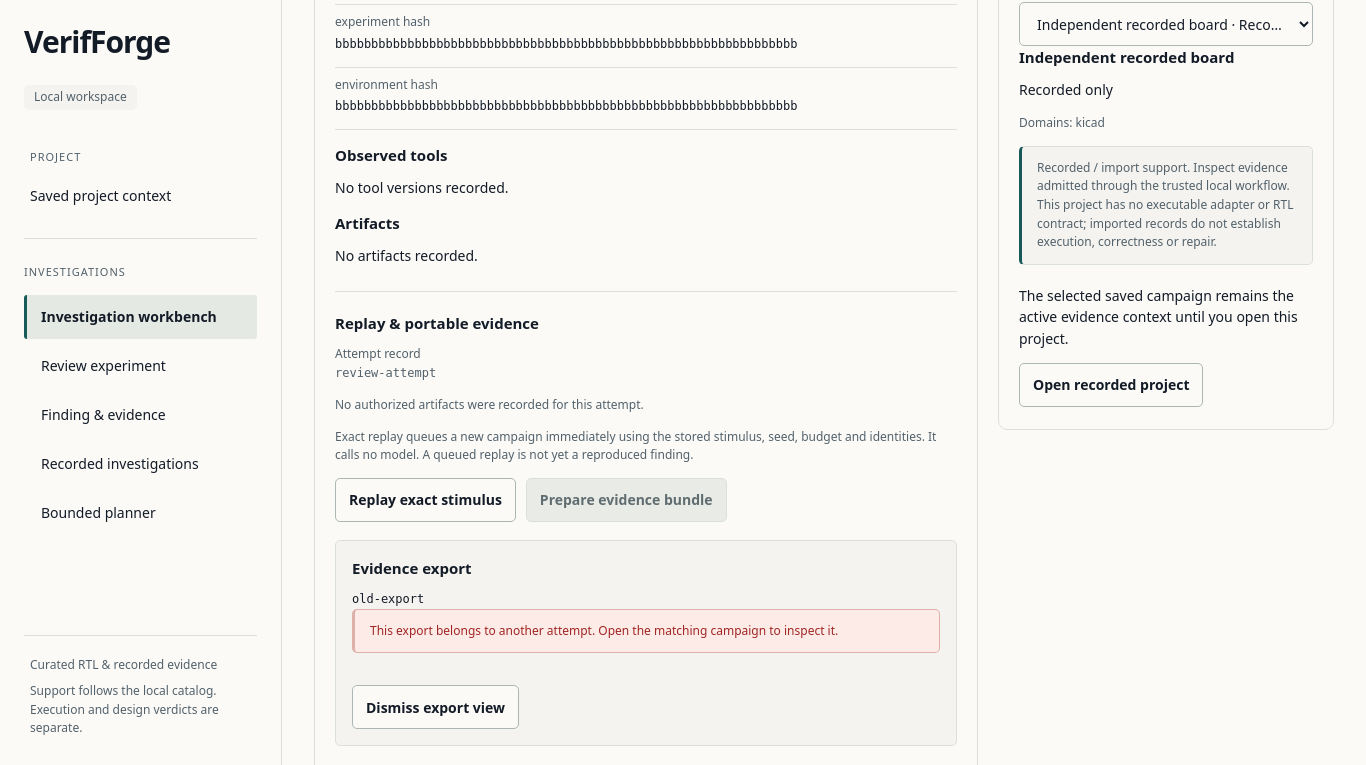
holds saved-campaign project authority even when only a different recorded project is in the catalog
(page scrolled)
Step 1. Click the button "Open recorded project" → (1111, 385), box x1=1019 y1=363 x2=1204 y2=407
(page scrolled)
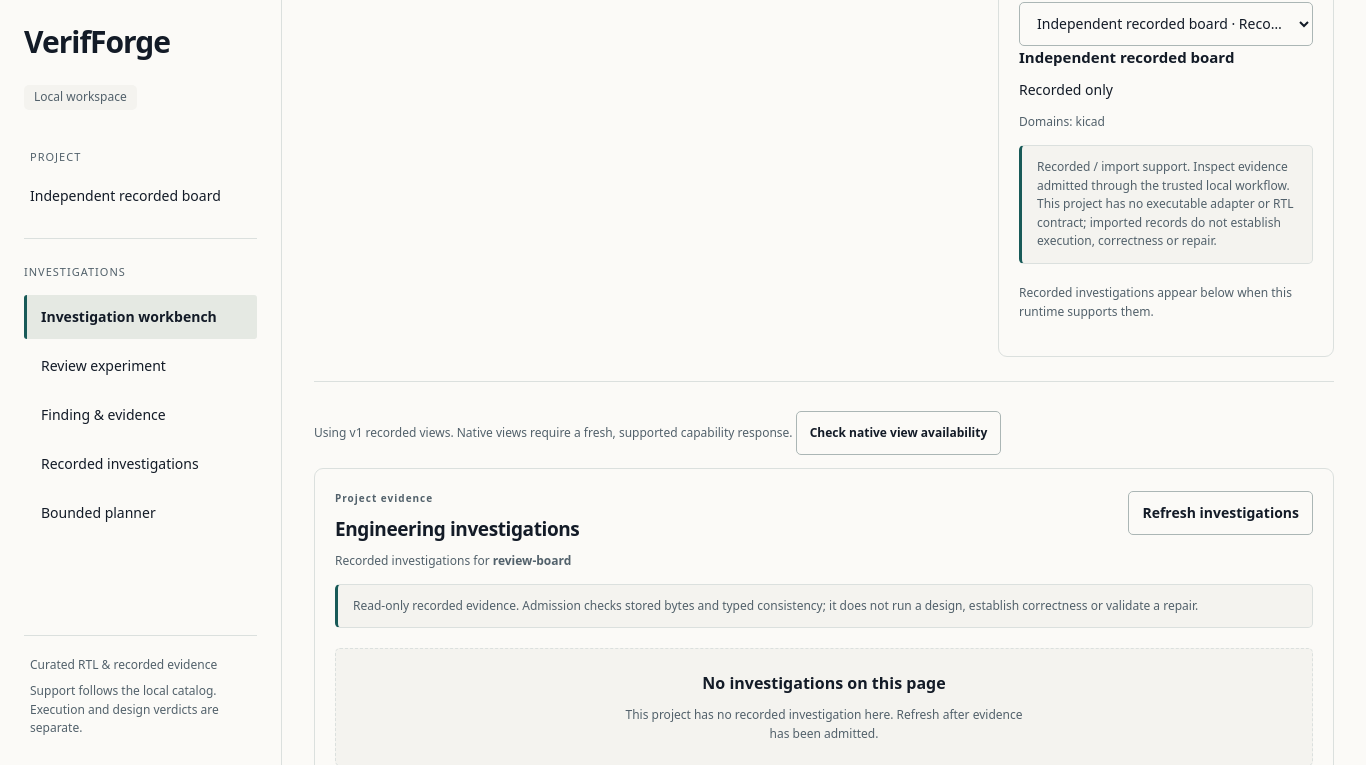
Now the text "Recorded investigations for review-board" is shown, box x1=335 y1=552 x2=579 y2=571
